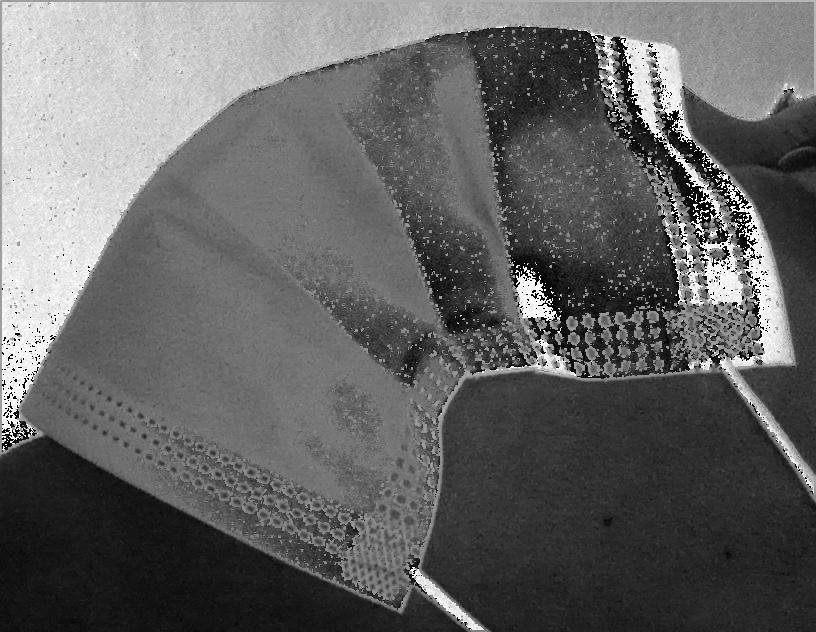High GSM: (166, 26, 625, 292)
